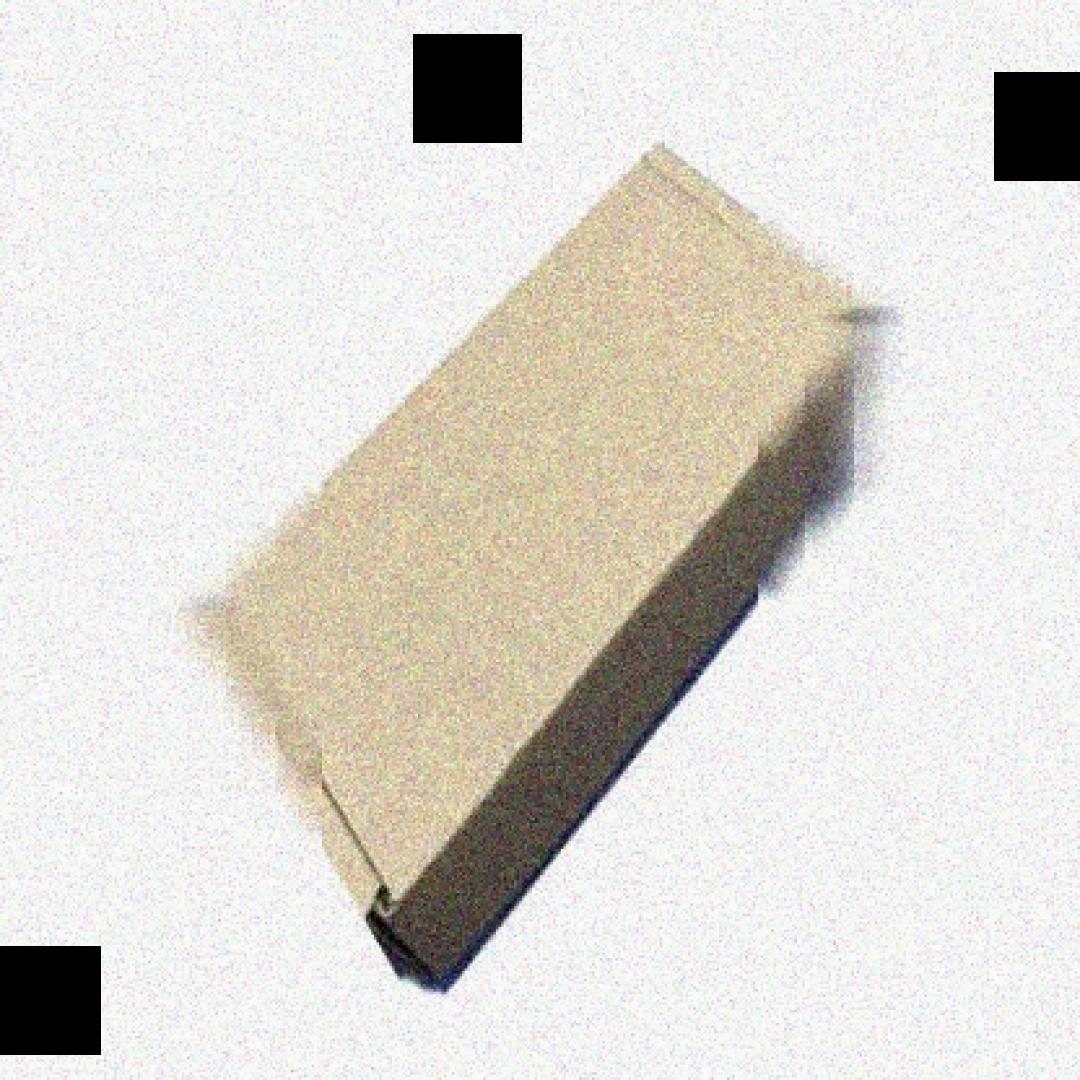package: (194, 143, 870, 974)
